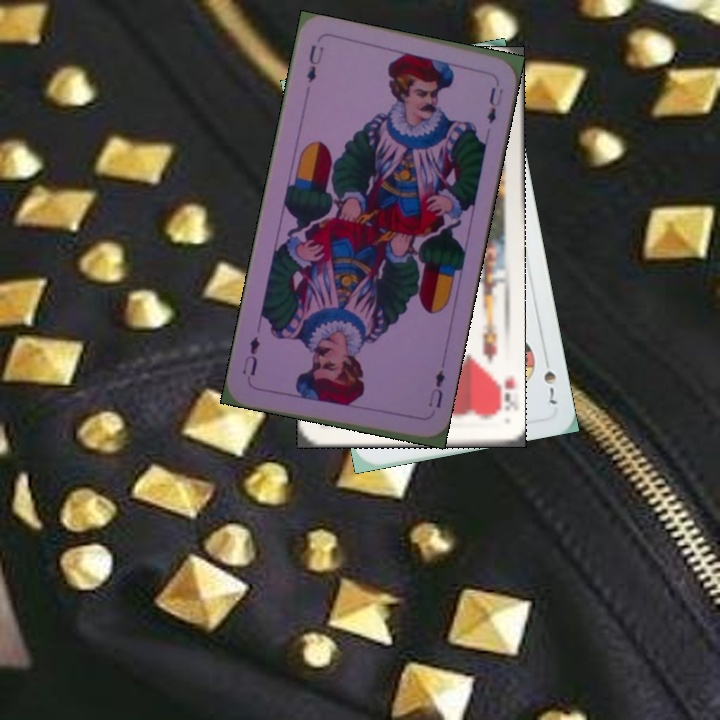EU: (424, 366, 448, 411), (303, 41, 327, 85)
HK: (490, 369, 517, 419)
S7: (539, 366, 560, 407)
